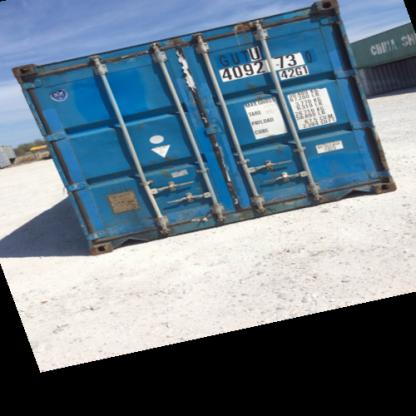Damage: (161, 43, 201, 97), (242, 189, 314, 216), (204, 130, 236, 184), (190, 200, 224, 226)
